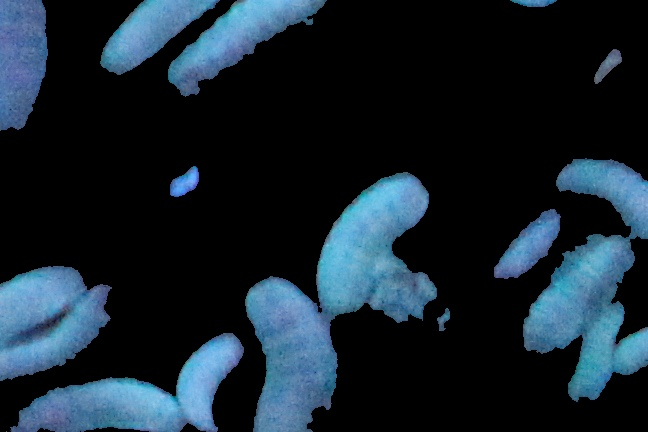larvae: (307, 168, 432, 318), (242, 280, 344, 432), (524, 228, 639, 359), (168, 1, 329, 91), (1, 278, 124, 384), (1, 259, 93, 393), (99, 1, 237, 74), (553, 299, 639, 412), (1, 1, 55, 166), (10, 380, 178, 432), (173, 313, 243, 432), (556, 151, 648, 236), (491, 201, 568, 293)
